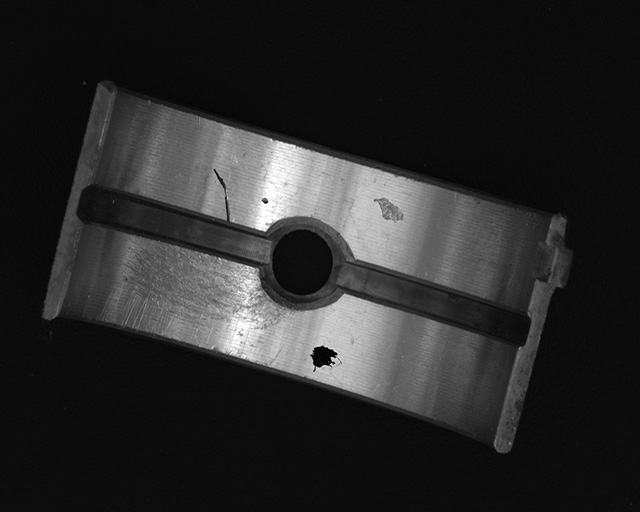blot: (309, 345, 343, 372)
bruise: (374, 197, 404, 223), (262, 196, 269, 205)
gap: (337, 260, 529, 345), (77, 184, 273, 267)
hole: (261, 219, 347, 308)
nick: (213, 167, 232, 222)
scratch: (95, 236, 294, 362)
